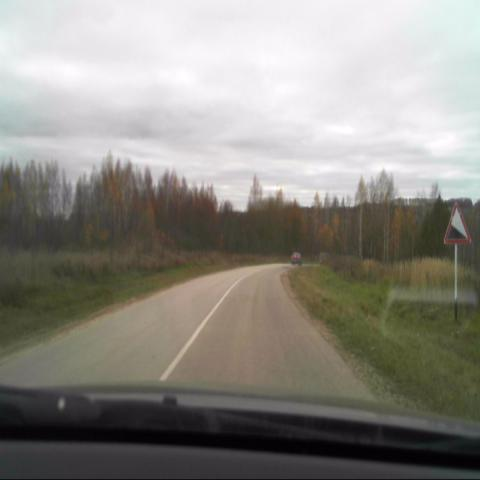1_13: (443, 204, 470, 244)
